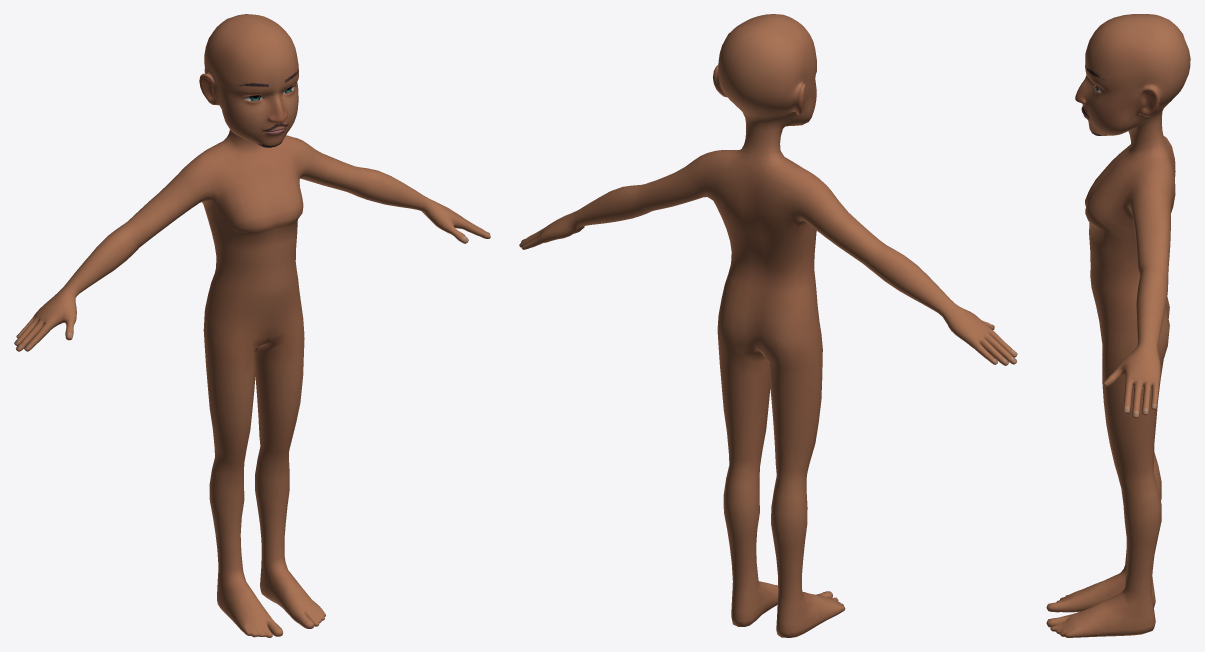
File: frame_0068.glb
3 renders of one model, left to right at view 1: azimuth 30°, elevation 25°; view 2: azimuth 150°, elevation 25°; view 3: azimuth 270°, elevation 25°, orthographic. The views are drawn at different scales.
Parts seen in each view (by area): view 1: frame_0068_head_geo; view 2: frame_0068_head_geo; view 3: frame_0068_head_geo.
Boxes of the visible parts, x1,y1,x2,y2 form: frame_0068_head_geo: (14, 14, 490, 637); frame_0068_head_geo: (519, 14, 1017, 637); frame_0068_head_geo: (1046, 14, 1190, 637).
Size of the model in its own units: 1.28 by 1.5 by 0.3253.
Materials: 3 (3 with a texture image).
